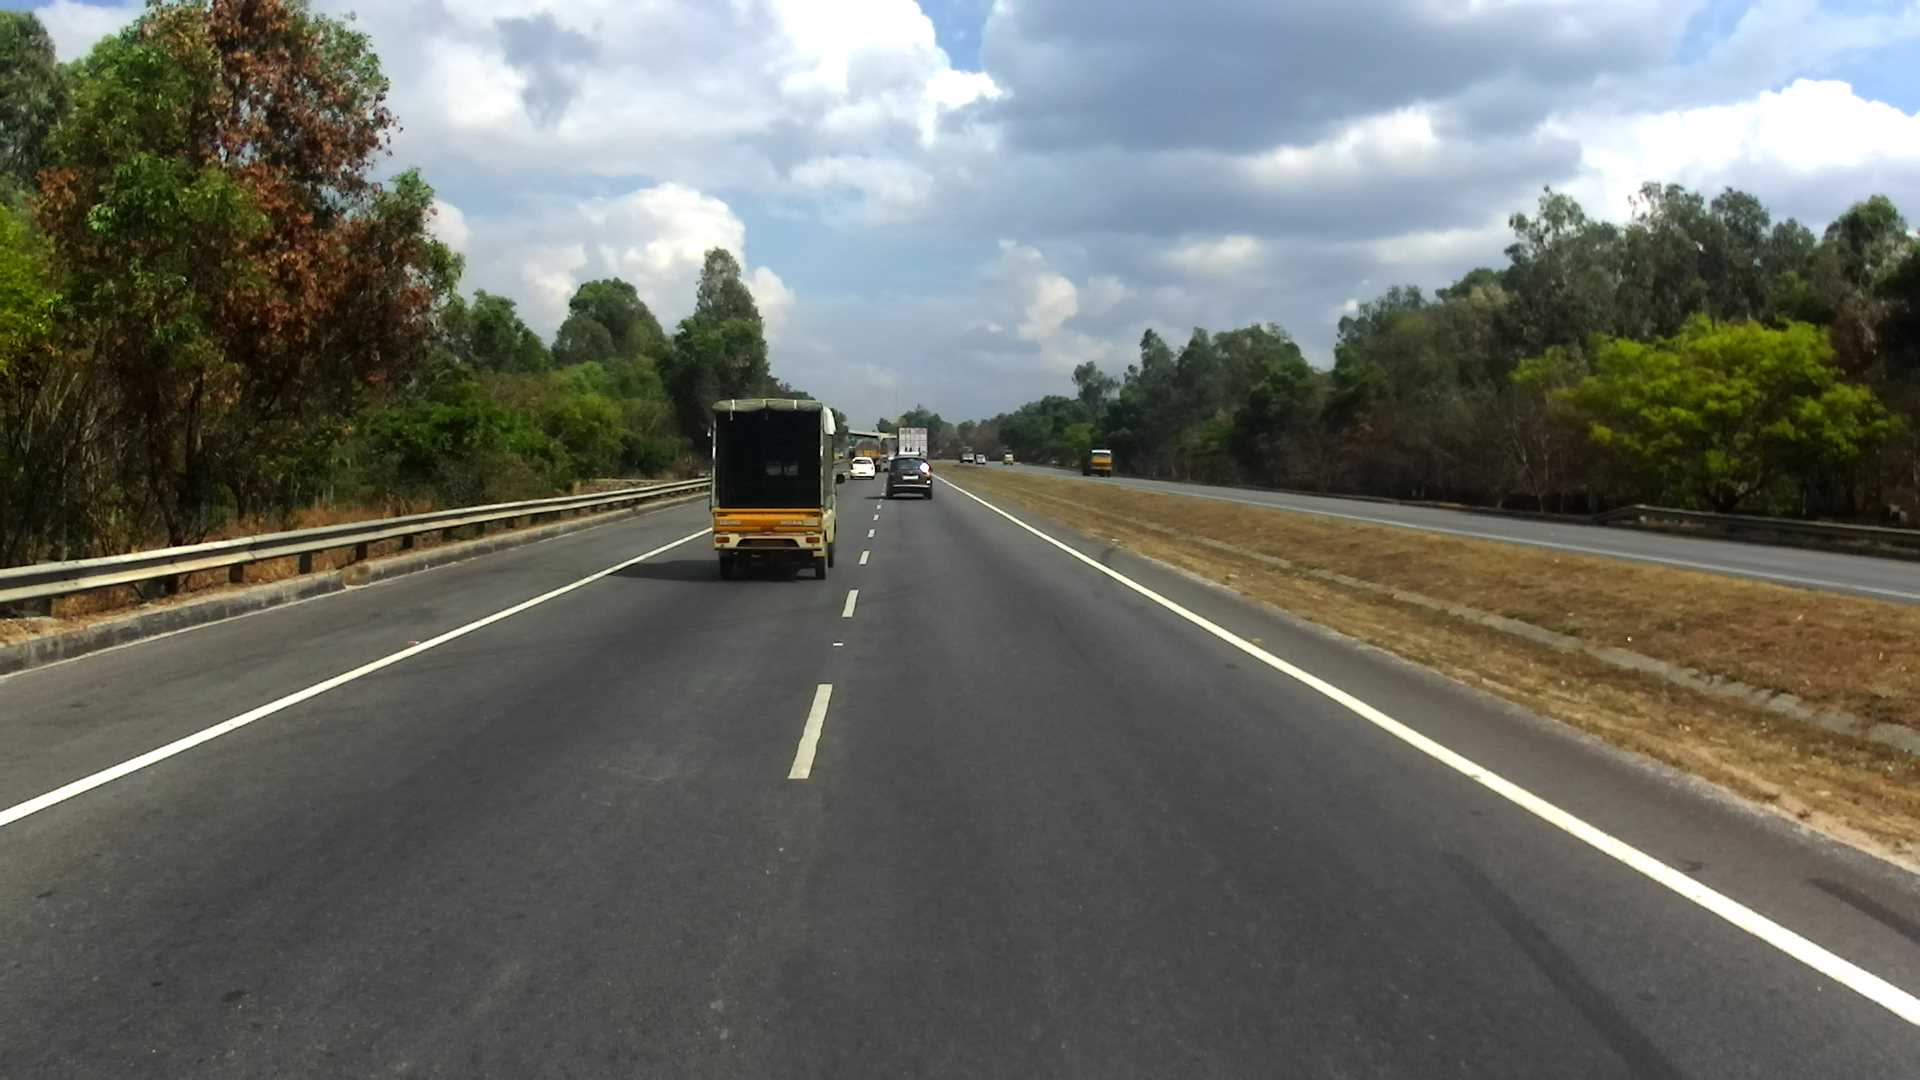car: (891, 451, 943, 506), (833, 450, 884, 484), (967, 442, 1002, 469)
truck: (707, 382, 856, 603), (891, 425, 957, 464), (1080, 443, 1127, 477), (848, 436, 893, 462), (997, 439, 1025, 467)
